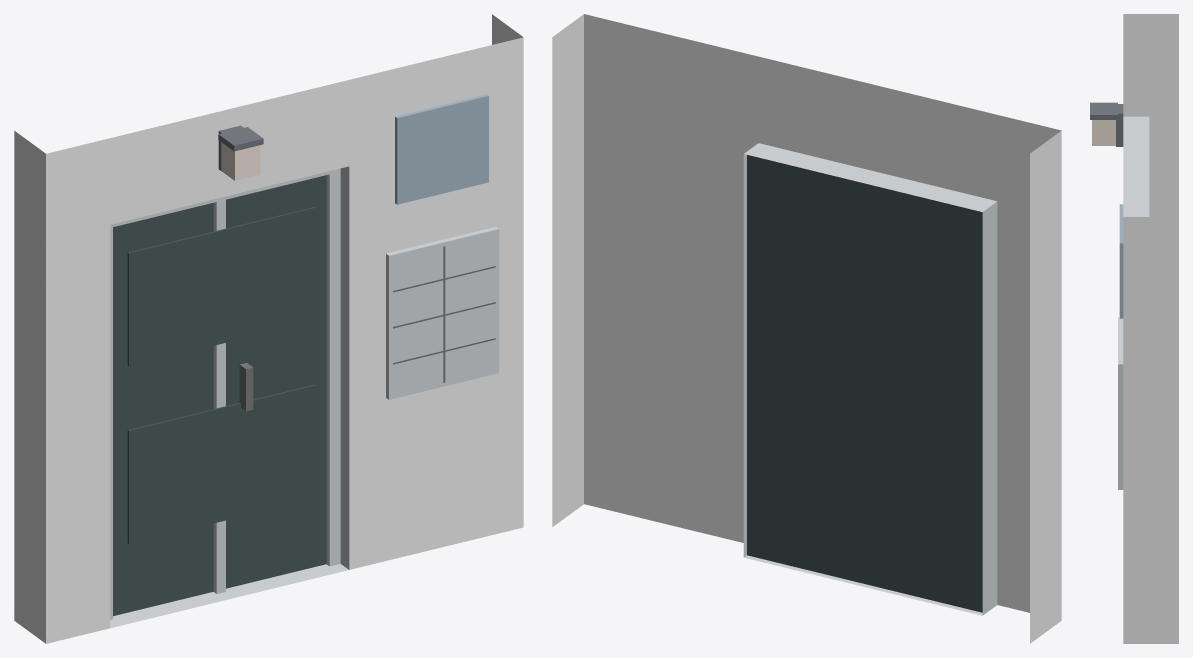
Rendered from entrance_close.fbx.
3 renders of one model, left to right at view 1: azimuth 30°, elevation 25°; view 2: azimuth 150°, elevation 25°; view 3: azimuth 270°, elevation 25°, orthographic. The views are drawn at different scales.
Parts seen in each view (by area): view 1: a2006/250/entrance_close; view 2: a2006/250/entrance_close; view 3: a2006/250/entrance_close.
Boxes of the visible parts, x1,y1,x2,y2 form: a2006/250/entrance_close: (14,14,523,643); a2006/250/entrance_close: (552,14,1061,643); a2006/250/entrance_close: (1090,14,1178,643).
Bounding box in the file's own units: 2.6 × 2.55 × 0.48.
